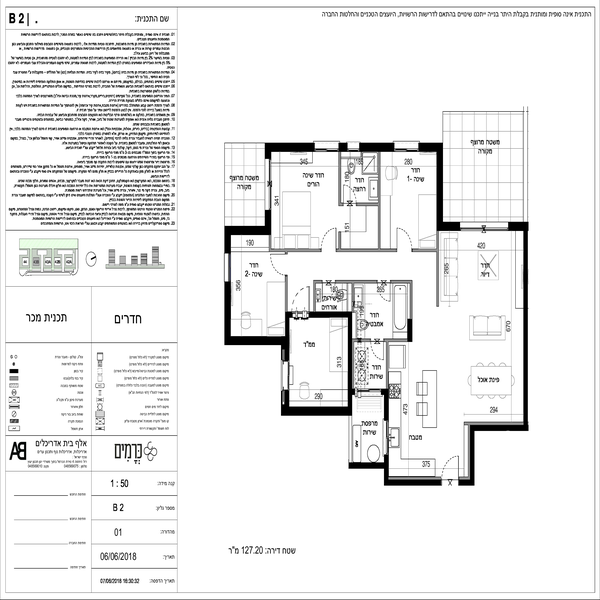door: (287, 283, 315, 314), (392, 224, 418, 257), (266, 250, 293, 276), (442, 453, 463, 486), (322, 225, 342, 253), (374, 279, 391, 304), (342, 179, 357, 205), (369, 339, 385, 362)
room: (435, 220, 540, 434), (266, 137, 436, 257), (278, 308, 357, 419), (224, 224, 286, 346), (316, 279, 413, 344)
wall: (524, 224, 533, 430), (465, 422, 482, 490), (344, 311, 355, 415), (285, 306, 354, 322), (277, 404, 349, 418), (469, 417, 522, 434), (226, 335, 287, 349), (436, 151, 447, 227), (327, 278, 412, 287), (265, 140, 312, 154), (380, 384, 397, 421), (377, 152, 383, 252), (221, 281, 230, 345), (342, 459, 387, 470), (404, 282, 417, 316), (389, 477, 439, 485), (436, 234, 441, 309), (268, 248, 321, 255), (363, 142, 392, 154), (422, 140, 446, 154), (218, 227, 271, 232), (337, 248, 381, 254), (415, 248, 434, 260), (382, 463, 390, 484)
window: (463, 218, 510, 235), (263, 157, 275, 212), (393, 136, 422, 155), (219, 251, 236, 275), (344, 139, 363, 159), (315, 139, 337, 156)
